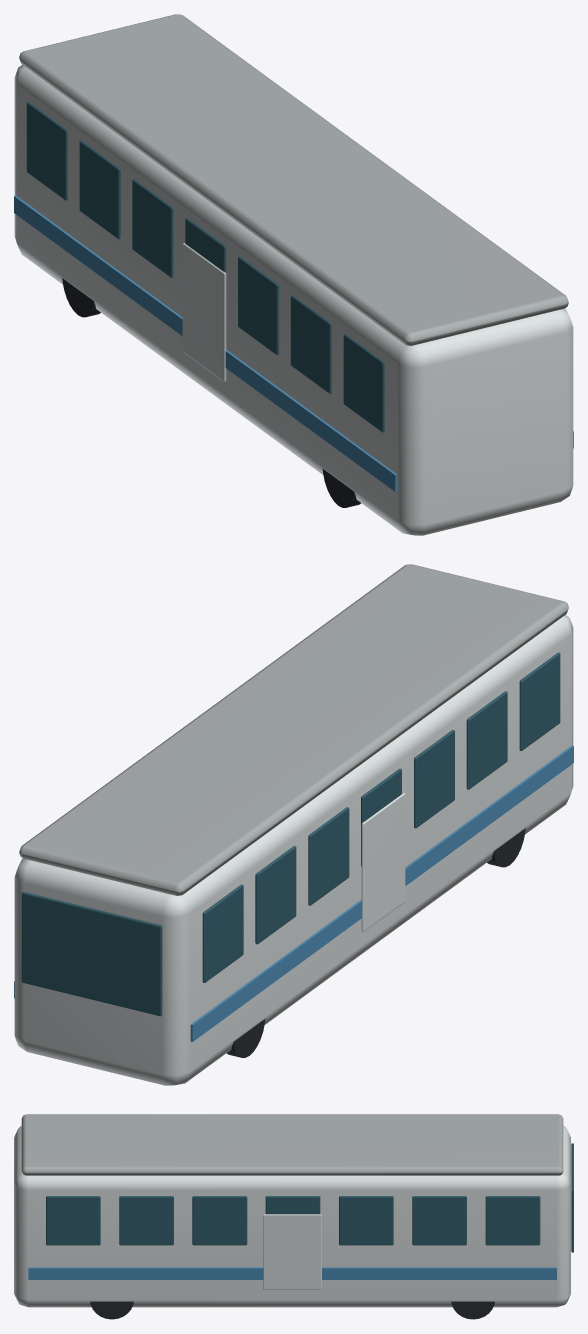
Rendered from Metro.fbx.
3 views of the same model, one above another, from view 1: azimuth 30°, elevation 25°; view 2: azimuth 150°, elevation 25°; view 3: azimuth 270°, elevation 25° (orthographic). The views are drawn at different scales.
Parts seen in each view (by area): view 1: Metro_Body, Metro_Roof, Metro_Stripe, Metro_Door, Metro_Window.005, Metro_Window, Metro_Window.001, Metro_Window.004, Metro_Window.006, Metro_Window.002, Metro_Window.003, Metro_Wheel.001 (+1 smaller); view 2: Metro_Roof, Metro_Body, Metro_Windshield, Metro_Stripe, Metro_Door, Metro_Window, Metro_Window.001, Metro_Window.005, Metro_Window.006, Metro_Window.004, Metro_Window.002, Metro_Window.003 (+2 smaller); view 3: Metro_Body, Metro_Roof, Metro_Stripe.001, Metro_Door.001, Metro_Window.009, Metro_Window.013, Metro_Window.007, Metro_Window.008, Metro_Window.011, Metro_Window.012, Metro_Window.010, Metro_Wheel.002 (+2 smaller).
Part boxes in pixels (x1,y1,x2,y2): Metro_Body: [14, 65, 573, 535]; Metro_Roof: [19, 14, 568, 345]; Metro_Stripe: [14, 195, 397, 491]; Metro_Door: [182, 243, 226, 381]; Metro_Window.005: [79, 140, 120, 239]; Metro_Window: [343, 334, 384, 432]; Metro_Window.001: [290, 295, 331, 393]; Metro_Window.004: [132, 179, 173, 277]; Metro_Window.006: [26, 102, 67, 200]; Metro_Window.002: [238, 256, 278, 354]; Metro_Window.003: [185, 218, 225, 272]; Metro_Wheel.001: [62, 278, 100, 317]; Metro_Roof: [19, 564, 568, 895]; Metro_Body: [14, 615, 573, 1085]; Metro_Windshield: [21, 891, 162, 1016]; Metro_Stripe: [190, 745, 573, 1041]; Metro_Door: [361, 793, 405, 931]; Metro_Window: [519, 652, 560, 750]; Metro_Window.001: [466, 691, 507, 789]; Metro_Window.005: [255, 846, 296, 944]; Metro_Window.006: [202, 884, 243, 982]; Metro_Window.004: [308, 807, 349, 905]; Metro_Window.002: [414, 730, 454, 828]; Metro_Window.003: [361, 768, 401, 866]; Metro_Body: [14, 1126, 570, 1307]; Metro_Roof: [21, 1114, 563, 1175]; Metro_Stripe.001: [28, 1267, 556, 1279]; Metro_Door.001: [263, 1214, 321, 1289]; Metro_Window.009: [192, 1196, 247, 1245]; Metro_Window.013: [485, 1196, 540, 1245]; Metro_Window.007: [46, 1196, 100, 1245]; Metro_Window.008: [119, 1196, 173, 1245]; Metro_Window.011: [339, 1196, 393, 1245]; Metro_Window.012: [412, 1196, 466, 1245]; Metro_Window.010: [265, 1196, 320, 1214]; Metro_Wheel.002: [90, 1301, 133, 1319].
Bounding box in the file's own units: 282 × 321 × 1086.
